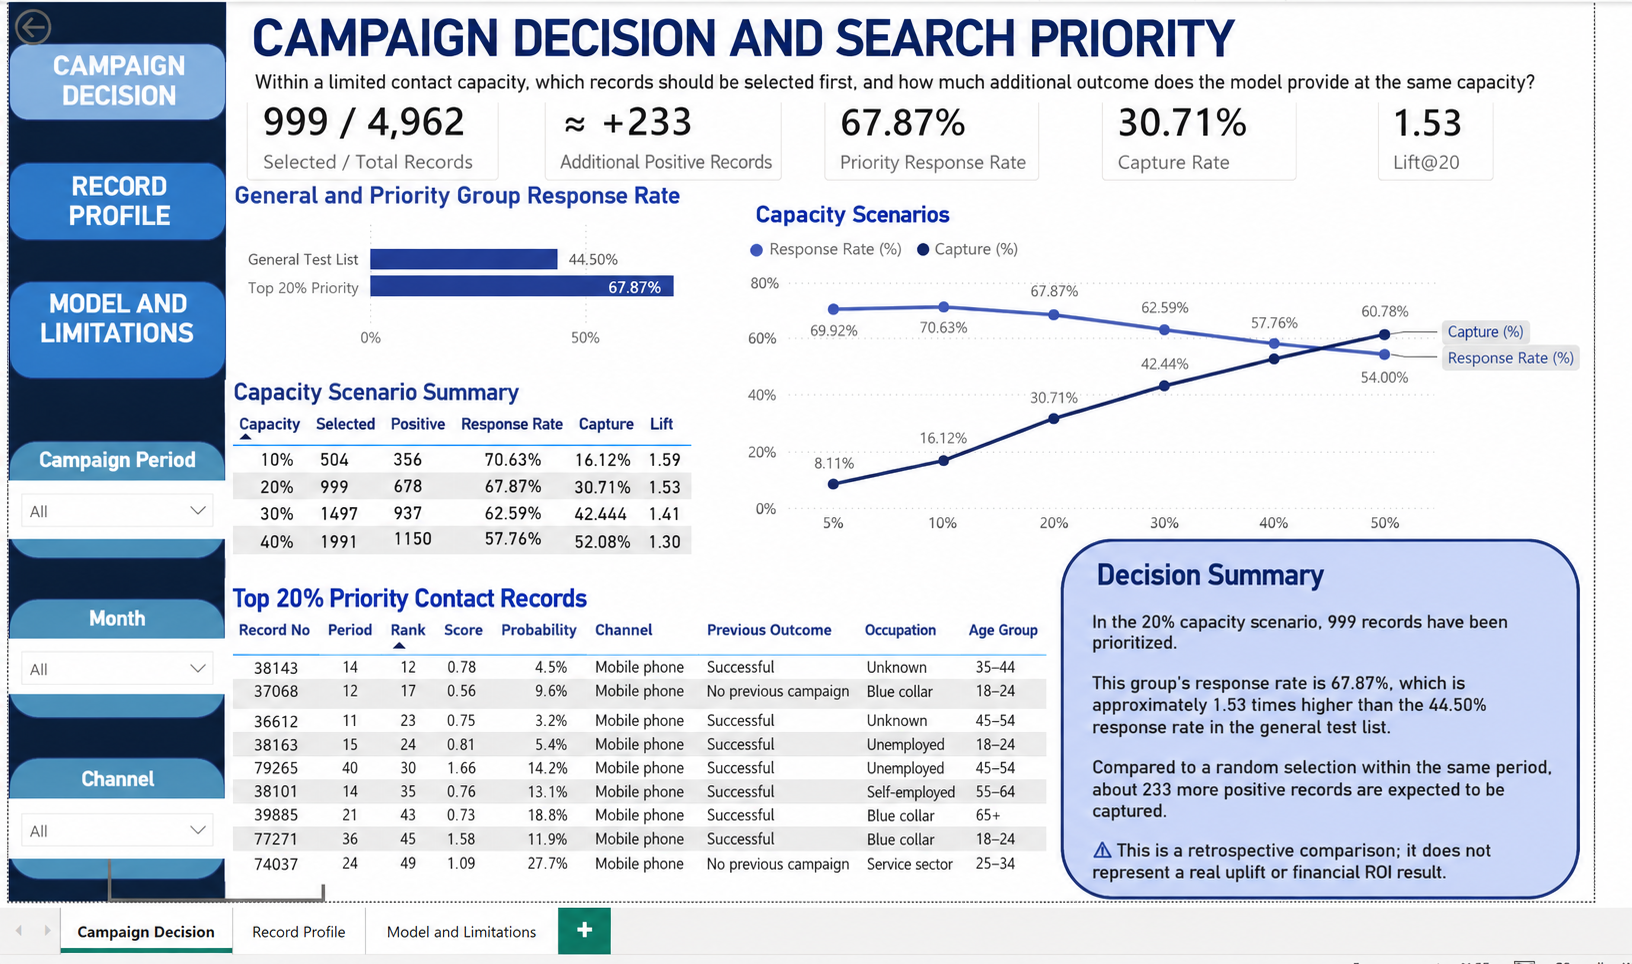

Layout of this report page (visuals, bound fields, positions):
{"tool":"powerbi","page":{"name":"Kampanya Kararı","canvas":[1280,720],"ordinal":0},"visuals":[{"type":"shape","box":[848,432,416,288],"z":0,"group":"g1"},{"type":"shape","box":[0,0,176,720],"z":1000},{"type":"textbox","box":[871.1,442.3,169.2,41.1],"z":1000,"group":"g1"},{"type":"textbox","box":[192,0,896,64],"z":2000},{"type":"textbox","box":[863.4,486,384.6,216],"z":2000,"group":"g1"},{"type":"shape","box":[0,480,176,96],"z":3000},{"type":"shape","box":[0,608,176,96],"z":4000},{"type":"shape","box":[0,352,176,96],"z":5000},{"type":"shape","box":[0,224,176,80],"z":6000},{"type":"textbox","box":[16,352,160,32],"z":7000},{"type":"textbox","box":[16,480,144,32],"z":8000},{"type":"textbox","box":[16,608,144,32],"z":9000},{"type":"shape","box":[0,32,176,64],"z":10000},{"type":"shape","box":[0,128,176,64],"z":11000},{"type":"textbox","box":[16,128,144,80],"z":12000},{"type":"textbox","box":[0,32,176,64],"z":13000},{"type":"actionButton","box":[80,640,176,80],"z":14000},{"type":"textbox","box":[16,224,144,80],"z":15000},{"type":"cardVisual","title":"Seçilen / Toplam Kayıt","fields":{"Data":["CampaignDashboard.Seçilen Toplam Metni"]},"box":[176,48,240,112],"z":16000},{"type":"actionButton","box":[0,0,100,40],"z":17000},{"type":"cardVisual","fields":{"Data":["SummaryMetrics.Ek Olumlu Kart"]},"box":[416,48,208,112],"z":18000},{"type":"cardVisual","fields":{"Data":["CampaignDashboard.Top 20 Yanıt Oranı"]},"box":[640,48,208,112],"z":19000},{"type":"cardVisual","fields":{"Data":["CampaignDashboard.Lift 20"]},"box":[1088,48,128,112],"z":20000},{"type":"cardVisual","fields":{"Data":["CampaignDashboard.Capture 20"]},"box":[864,48,192,112],"z":21000},{"type":"slicer","fields":{"Values":["CampaignDashboard.contact_tr"]},"box":[0,640,176,48],"z":22000},{"type":"slicer","fields":{"Values":["CampaignDashboard.month"]},"box":[0,512,176,48],"z":23000},{"type":"slicer","fields":{"Values":["CampaignDashboard.campaign_period_id"]},"box":[0,384,176,48],"z":24000},{"type":"lineChart","title":"Kapasite Senaryoları","fields":{"Category":["CapacityScenarios.capacity_rate"],"Y":["Max(CapacityScenarios.response_rate)","Max(CapacityScenarios.capture)"]},"box":[592,160,656,272],"z":26000},{"type":"tableEx","title":"Top %20 Öncelikli Temas Kayıtları","fields":{"Values":["Sum(CampaignDashboard.record_id)","Sum(CampaignDashboard.campaign_period_id)","Sum(CampaignDashboard.rank_within_period)","Sum(CampaignDashboard.response_score)","Sum(CampaignDashboard.percentile_within_period)","CampaignDashboard.contact_tr","CampaignDashboard.poutcome_tr","CampaignDashboard.job_tr","CampaignDashboard.age_band"]},"box":[176,464,688,240],"z":26500},{"type":"clusteredBarChart","title":"Genel ve Öncelikli Grup Yanıt Oranı","fields":{"Category":["YanıtGruplari_v2.Grup"],"Y":["CampaignDashboard.Yanıt Oranı Karşılaştırma v2"]},"box":[176,144,416,144],"z":26750},{"type":"tableEx","title":"Kapasite Senaryosu Özeti","fields":{"Values":["Sum(CapacityScenarios.capacity_rate)","CapacityScenarios.selected_count","CapacityScenarios.selected_positive","Sum(CapacityScenarios.response_rate)","Sum(CapacityScenarios.capture)","Sum(CapacityScenarios.lift)"]},"box":[176,304,384,144],"z":27000},{"type":"textbox","box":[192,48,1040,32],"z":28500},{"type":"group","id":"g1","title":"Grup 1","box":[848,432,416,288],"z":29000}]}

Visuals, with their boxes on the page's 1280x720 design canvas (x1, y1, x2, y2). These are canvas units, not pixel positions in the 1632x964 screenshot, which may show the page scaled, cropped or inside an application window:
shape: Rect(848, 432, 1264, 720)
shape: Rect(0, 0, 176, 720)
textbox: Rect(871, 442, 1040, 483)
textbox: Rect(192, 0, 1088, 64)
textbox: Rect(863, 486, 1248, 702)
shape: Rect(0, 480, 176, 576)
shape: Rect(0, 608, 176, 704)
shape: Rect(0, 352, 176, 448)
shape: Rect(0, 224, 176, 304)
textbox: Rect(16, 352, 176, 384)
textbox: Rect(16, 480, 160, 512)
textbox: Rect(16, 608, 160, 640)
shape: Rect(0, 32, 176, 96)
shape: Rect(0, 128, 176, 192)
textbox: Rect(16, 128, 160, 208)
textbox: Rect(0, 32, 176, 96)
actionButton: Rect(80, 640, 256, 720)
textbox: Rect(16, 224, 160, 304)
"Seçilen / Toplam Kayıt" cardVisual: Rect(176, 48, 416, 160)
actionButton: Rect(0, 0, 100, 40)
cardVisual - SummaryMetrics.Ek Olumlu Kart: Rect(416, 48, 624, 160)
cardVisual - CampaignDashboard.Top 20 Yanıt Oranı: Rect(640, 48, 848, 160)
cardVisual - CampaignDashboard.Lift 20: Rect(1088, 48, 1216, 160)
cardVisual - CampaignDashboard.Capture 20: Rect(864, 48, 1056, 160)
slicer - CampaignDashboard.contact_tr: Rect(0, 640, 176, 688)
slicer - CampaignDashboard.month: Rect(0, 512, 176, 560)
slicer - CampaignDashboard.campaign_period_id: Rect(0, 384, 176, 432)
"Kapasite Senaryoları" lineChart: Rect(592, 160, 1248, 432)
"Top %20 Öncelikli Temas Kayıtları" tableEx: Rect(176, 464, 864, 704)
"Genel ve Öncelikli Grup Yanıt Oranı" clusteredBarChart: Rect(176, 144, 592, 288)
"Kapasite Senaryosu Özeti" tableEx: Rect(176, 304, 560, 448)
textbox: Rect(192, 48, 1232, 80)
"Grup 1" group: Rect(848, 432, 1264, 720)
